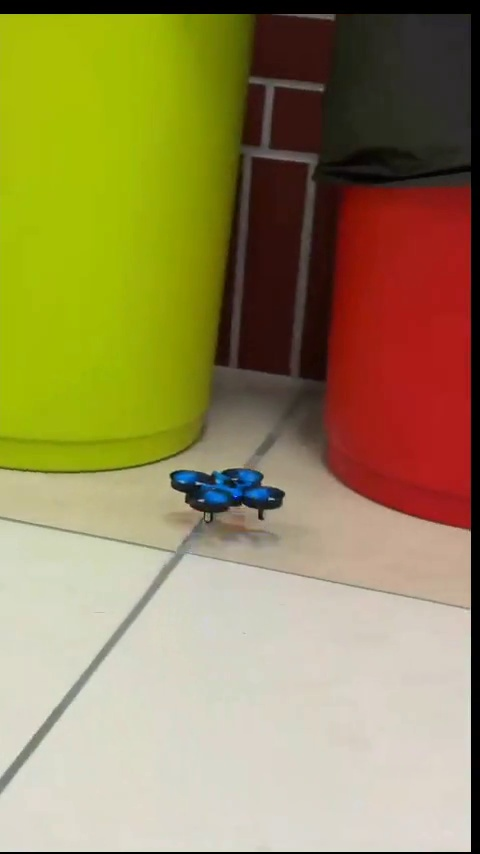drone: (169, 465, 290, 528)
